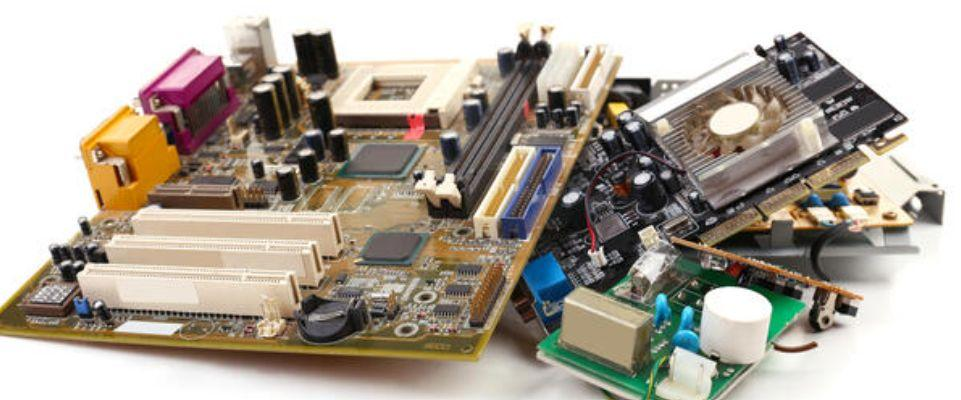electronic: (0, 10, 625, 365), (504, 27, 912, 335), (535, 228, 819, 400), (77, 104, 176, 213), (138, 48, 236, 155), (329, 59, 473, 130), (564, 42, 620, 119), (250, 66, 307, 141), (596, 109, 665, 168), (534, 38, 587, 110), (223, 14, 279, 82), (338, 142, 425, 180), (244, 153, 308, 200), (766, 34, 819, 85), (292, 28, 339, 81), (498, 24, 549, 72), (23, 283, 80, 317), (73, 297, 116, 329), (255, 294, 286, 338), (49, 242, 81, 280), (113, 319, 180, 335), (650, 79, 686, 102), (327, 127, 349, 162), (77, 215, 96, 246), (85, 242, 108, 264)
